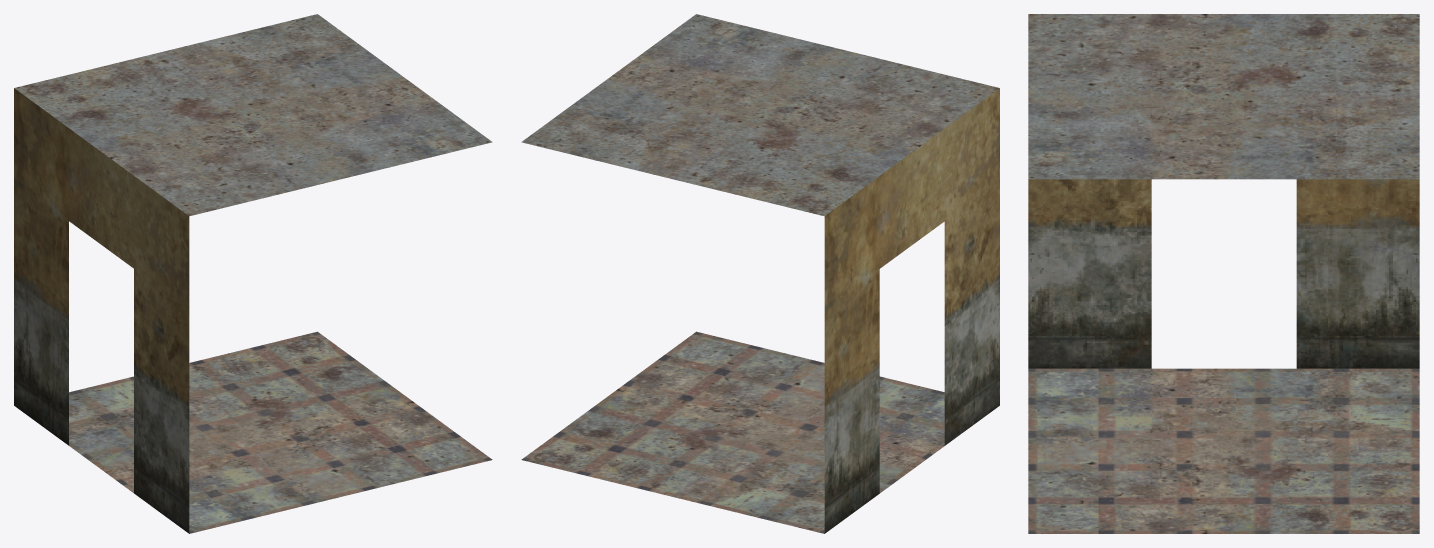
File: _Corridor_part28.FBX
3 renders of one model, left to right at view 1: azimuth 30°, elevation 25°; view 2: azimuth 150°, elevation 25°; view 3: azimuth 270°, elevation 25°, orthographic. The views are drawn at different scales.
Parts seen in each view (by area): view 1: Corridor_Part28; view 2: Corridor_Part28; view 3: Corridor_Part28.
Boxes of the visible parts, x1,y1,x2,y2 form: Corridor_Part28: (14,14,492,533); Corridor_Part28: (521,14,999,533); Corridor_Part28: (1028,14,1419,533).
Size of the model in its own units: 645 by 645 by 645.
3 materials, 3 textured.
